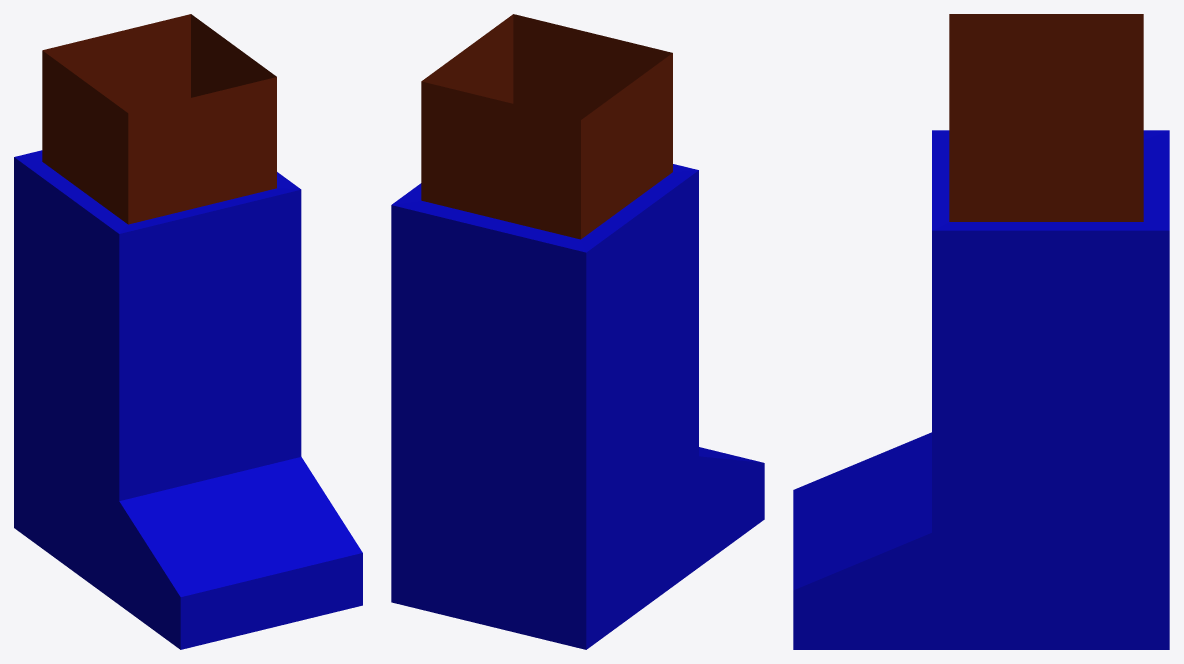
The model's file is leg.obj.
The picture shows the model from 3 angles, left to right: view 1: azimuth 30°, elevation 25°; view 2: azimuth 150°, elevation 25°; view 3: azimuth 270°, elevation 25°; orthographic projection. The views are drawn at different scales.
Parts seen in each view (by area): view 1: leg; view 2: leg; view 3: leg.
Part boxes in pixels (x1,y1,x2,y2): leg: [14, 14, 362, 649]; leg: [391, 14, 764, 649]; leg: [793, 14, 1169, 649].
Size of the model in its own units: 0.0778 by 0.1967 by 0.1232.
